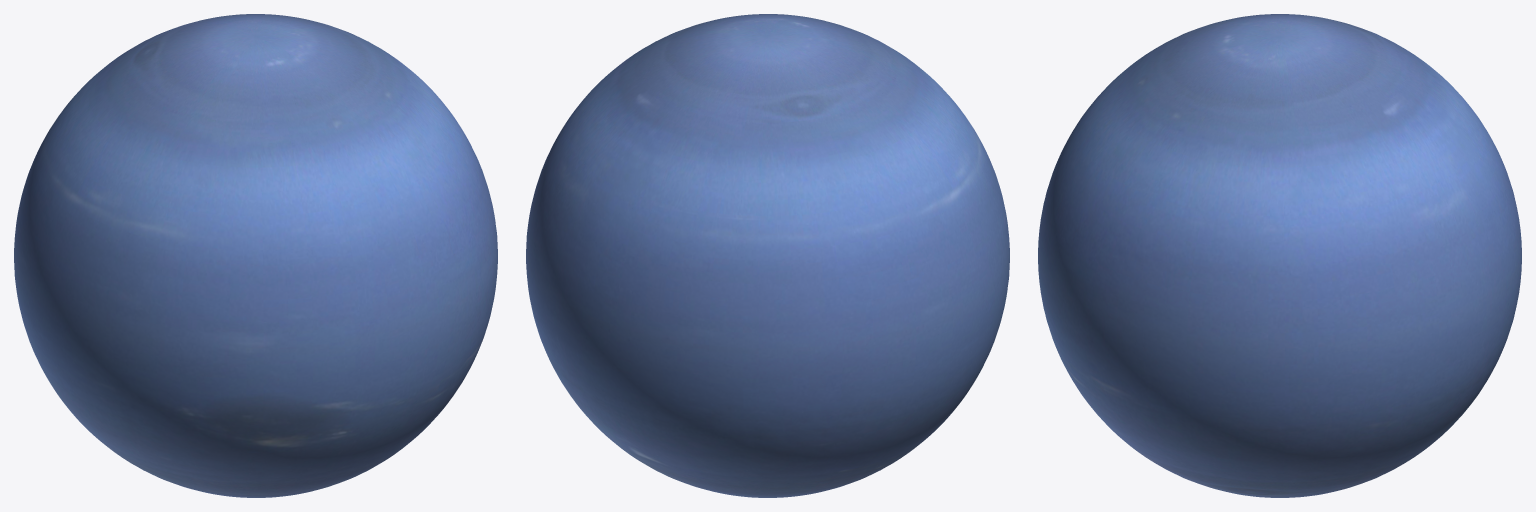
The model's file is neptune.gltf.
The picture shows the model from 3 angles, left to right: view 1: azimuth 30°, elevation 25°; view 2: azimuth 150°, elevation 25°; view 3: azimuth 270°, elevation 25°; orthographic projection.
Visible parts, largest first — view 1: Object_2; view 2: Object_2; view 3: Object_2.
Boxes of the visible parts, x1,y1,x2,y2 form: Object_2: [14, 14, 497, 497]; Object_2: [526, 14, 1009, 497]; Object_2: [1038, 14, 1521, 497].
Size of the model in its own units: 2 by 2 by 2.
Materials: 1 (1 with a texture image).
